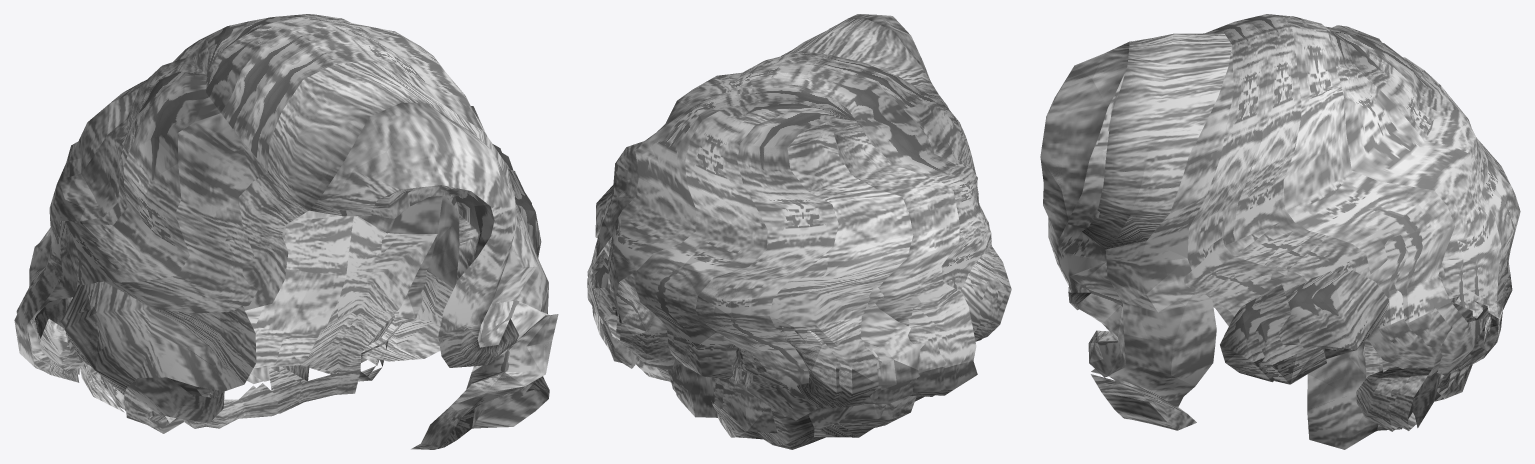
Rendered from hair_short02.glb.
3 views of the same model, side by side, from view 1: azimuth 30°, elevation 25°; view 2: azimuth 150°, elevation 25°; view 3: azimuth 270°, elevation 25° (orthographic). The views are drawn at different scales.
Parts seen in each view (by area): view 1: hair_short02; view 2: hair_short02; view 3: hair_short02.
Boxes of the visible parts, x1,y1,x2,y2 form: hair_short02: (14, 14, 558, 449); hair_short02: (587, 14, 1011, 449); hair_short02: (1040, 14, 1520, 449).
Size of the model in its own units: 0.2547 by 0.2233 by 0.2473.
1 material, 1 textured.
